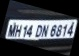character: (7, 23, 16, 37), (14, 24, 22, 38), (34, 24, 42, 37), (49, 24, 57, 36), (26, 24, 33, 37), (41, 24, 48, 37), (55, 24, 62, 37), (67, 22, 73, 36), (22, 24, 27, 37), (62, 24, 67, 36)
